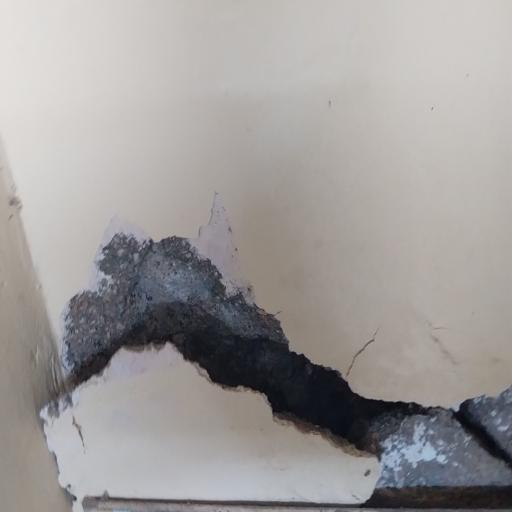spalling: (30, 202, 512, 512)
